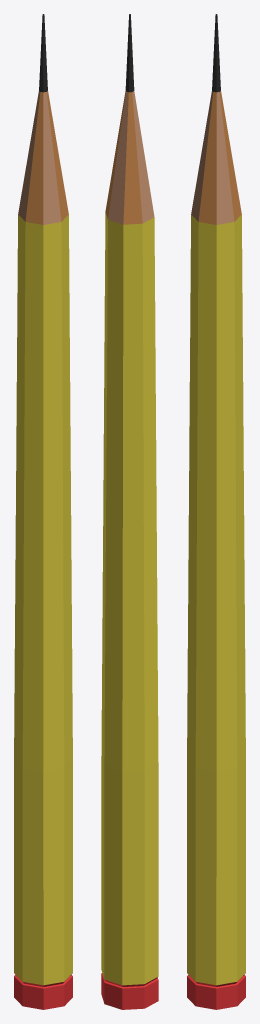
File: pencil.fbx
3 renders of one model, left to right at view 1: azimuth 90°, elevation 25°; view 2: azimuth 210°, elevation 25°; view 3: azimuth 270°, elevation 25°, orthographic.
Visible parts, largest first — view 1: pencil; view 2: pencil; view 3: pencil.
Boxes of the visible parts, bbox=[...] form: pencil: bbox=[14, 14, 72, 1009]; pencil: bbox=[101, 14, 158, 1009]; pencil: bbox=[187, 14, 245, 1009].
Size of the model in its own units: 32.65 by 600 by 32.65.
